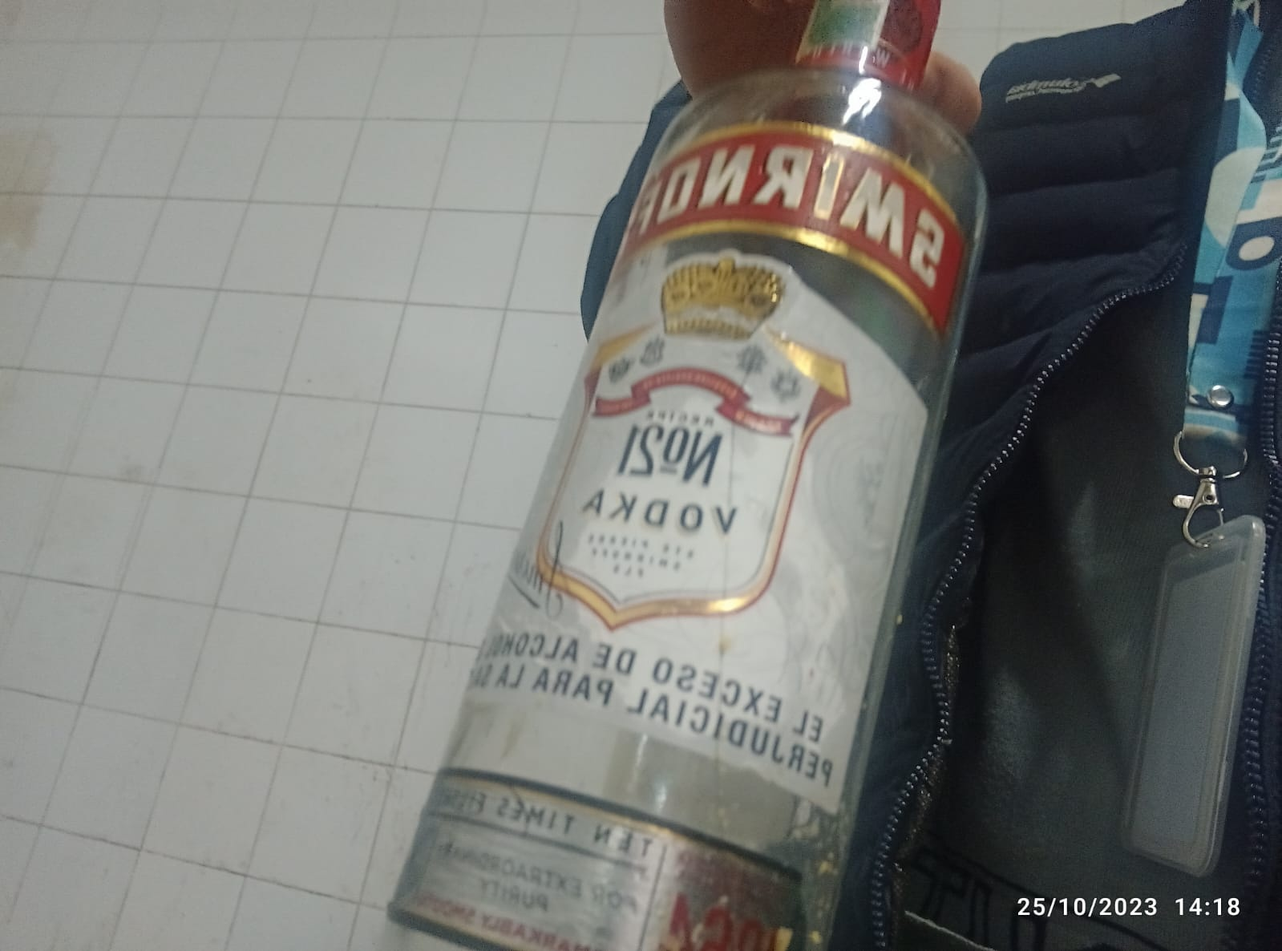Vidrio: (386, 0, 991, 948)
